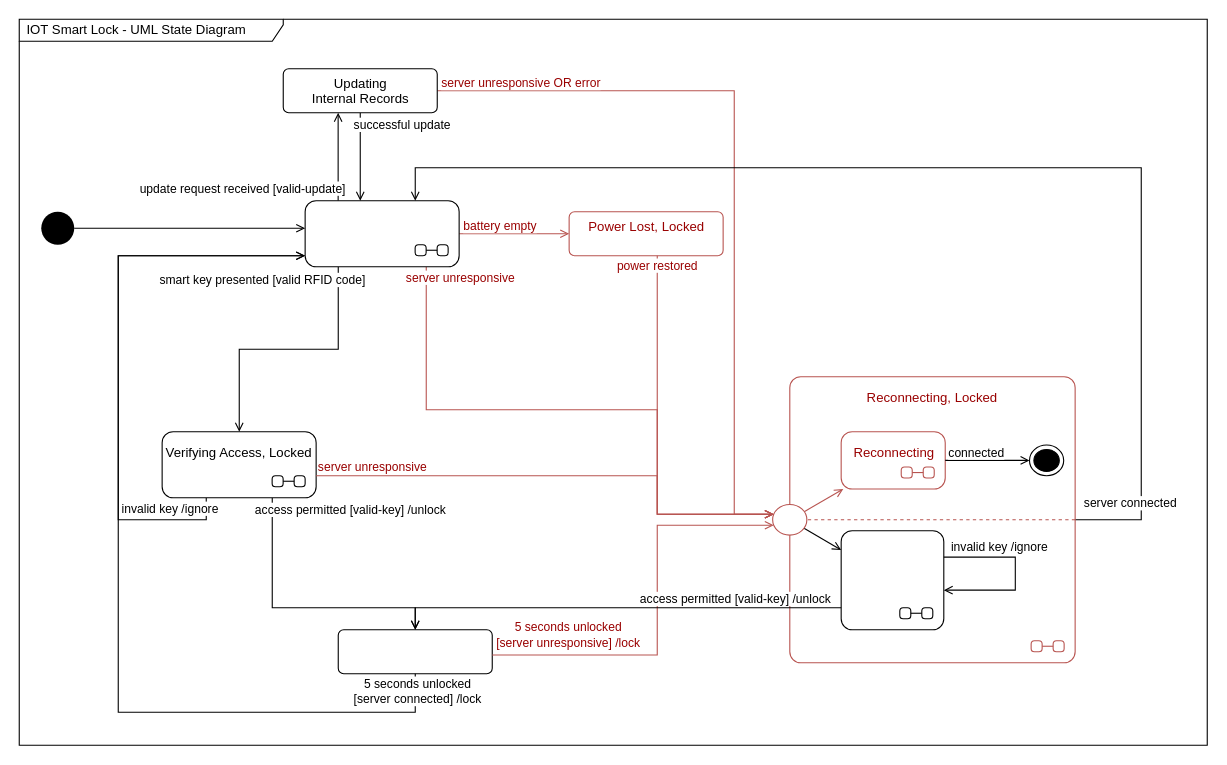
This 1227x765 diagram has some shape labels left out. The centre of each missing label's shape, as x and y in pixels:
Monitoring, Locked: (x=381, y=233)
Monitoring, Verifying Access Using Internal Records: (x=892, y=580)
Unlocked: (x=414, y=651)
